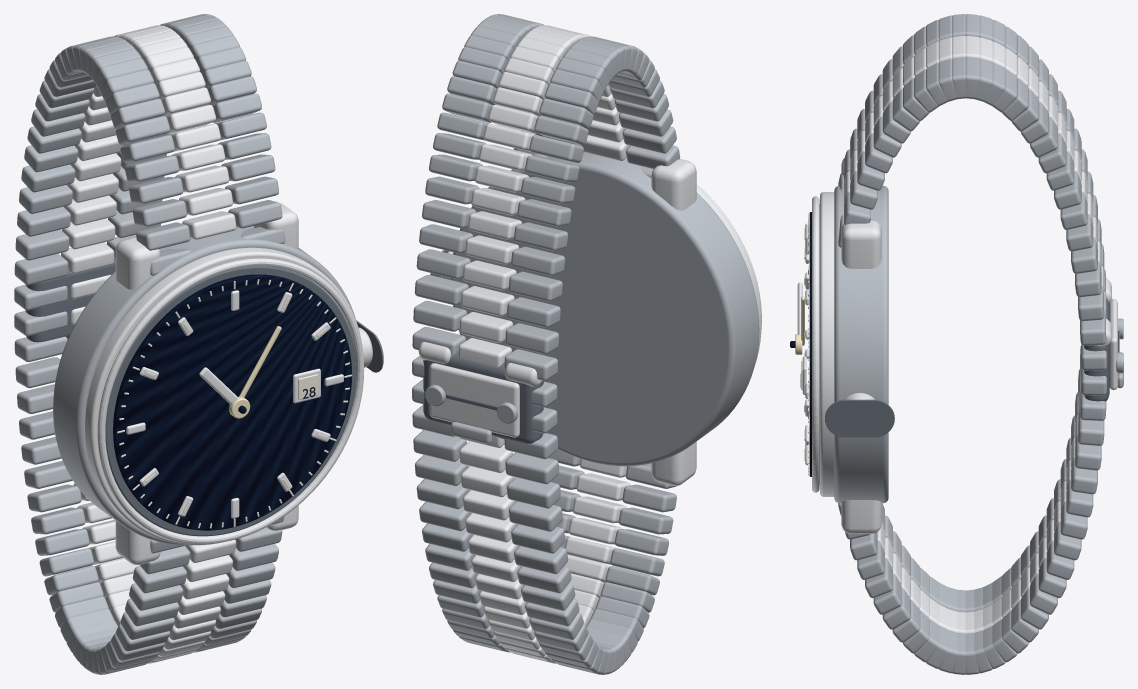
The model's file is josta.glb.
3 renders of one model, left to right at view 1: azimuth 30°, elevation 25°; view 2: azimuth 150°, elevation 25°; view 3: azimuth 270°, elevation 25°, orthographic. The views are drawn at different scales.
Visible parts, largest first — view 1: Blue watch dial, Watch case, Bezel highlight ring, Polished bezel, Bezel inset, Rear folding clasp body, upper lug -0.48, Oval bracelet link 56-1, Oval bracelet link 57-1, Oval bracelet link 58-1, lower lug -0.48, Oval bracelet link 56-2 (+82 smaller); view 2: Watch case, Clasp cover plate, Rear folding clasp body, upper lug -0.48, lower lug -0.48, Oval bracelet link 52-1, Oval bracelet link 57-1, Oval bracelet link 51-1, Oval bracelet link 58-1, Oval bracelet link 59-1, Oval bracelet link 50-1, Oval bracelet link 52-2 (+100 smaller); view 3: Watch case, Polished bezel, Bezel highlight ring, upper lug 0.48, lower lug 0.48, Crown groove 0, Blue watch dial, Clasp cover plate, Oval bracelet link 52-3, Oval bracelet link 57-3, Oval bracelet link 51-3, Oval bracelet link 49-3 (+51 smaller).
Part boxes in pixels (<box>): Blue watch dial: <box>113,274,351,530</box>; Watch case: <box>53,226,356,545</box>; Bezel highlight ring: <box>97,258,364,543</box>; Polished bezel: <box>85,247,362,545</box>; Bezel inset: <box>105,266,356,536</box>; Rear folding clasp body: <box>25,257,115,342</box>; upper lug -0.48: <box>115,237,160,289</box>; Oval bracelet link 56-1: <box>14,253,68,285</box>; Oval bracelet link 57-1: <box>15,229,69,260</box>; Oval bracelet link 58-1: <box>17,206,70,236</box>; lower lug -0.48: <box>115,521,160,564</box>; Oval bracelet link 56-2: <box>61,242,114,273</box>; Watch case: <box>450,152,759,466</box>; Clasp cover plate: <box>429,363,519,437</box>; Rear folding clasp body: <box>423,351,543,443</box>; upper lug -0.48: <box>651,159,696,210</box>; lower lug -0.48: <box>651,441,696,485</box>; Oval bracelet link 52-1: <box>505,452,559,484</box>; Oval bracelet link 57-1: <box>505,323,559,354</box>; Oval bracelet link 51-1: <box>506,477,560,508</box>; Oval bracelet link 58-1: <box>506,297,560,327</box>; Oval bracelet link 59-1: <box>508,271,562,301</box>; Oval bracelet link 50-1: <box>508,501,562,531</box>; Oval bracelet link 52-2: <box>459,441,512,472</box>; Watch case: <box>834,185,888,503</box>; Polished bezel: <box>820,192,834,496</box>; Bezel highlight ring: <box>812,196,819,492</box>; upper lug 0.48: <box>841,220,881,268</box>; lower lug 0.48: <box>841,500,881,533</box>; Crown groove 0: <box>854,399,894,437</box>; Blue watch dial: <box>809,212,811,476</box>; Clasp cover plate: <box>1109,298,1117,390</box>; Oval bracelet link 52-3: <box>1078,413,1104,445</box>; Oval bracelet link 57-3: <box>1078,287,1104,321</box>; Oval bracelet link 51-3: <box>1075,436,1101,470</box>; Oval bracelet link 49-3: <box>1066,481,1093,517</box>.
Size of the model in its own units: 2.09 by 4.12 by 2.08.
Materials: 7 (1 with a texture image).
